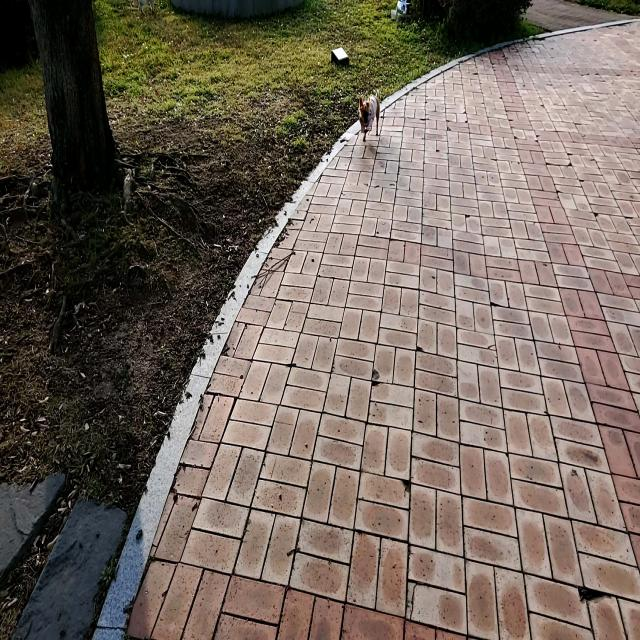Dog: (358, 92, 379, 142)
